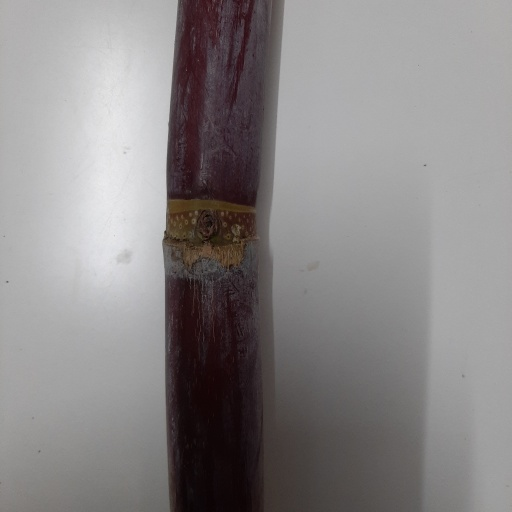Damage_Bud: (195, 208, 217, 241)
